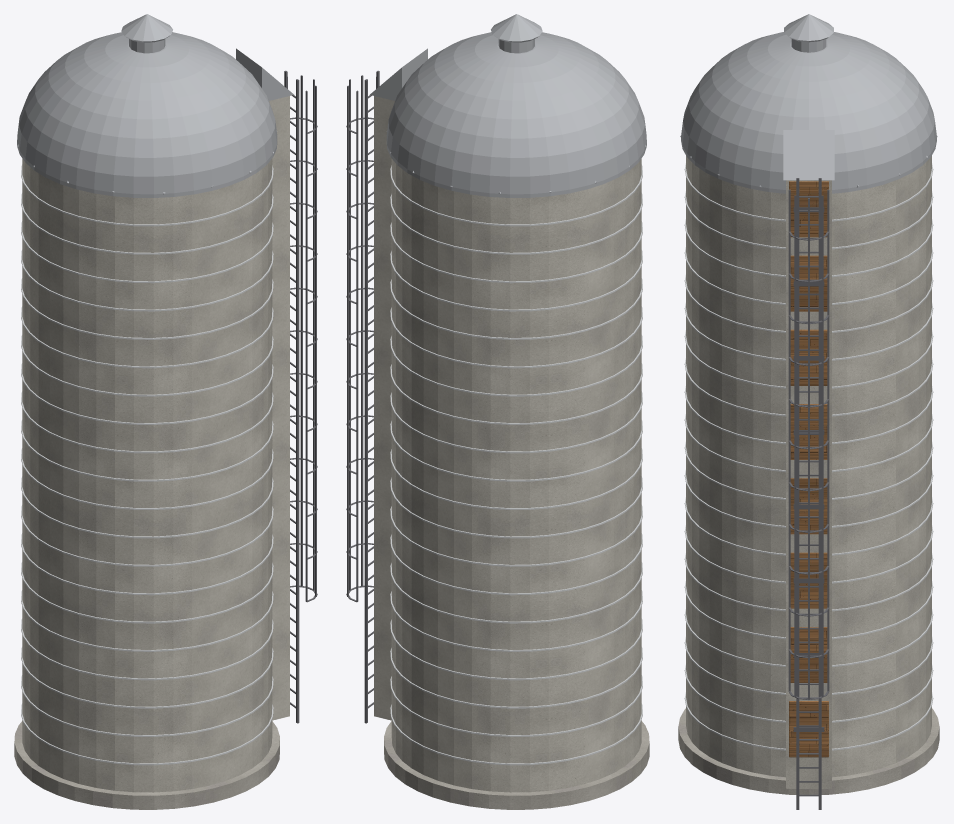
The model's file is silo.glb.
The picture shows the model from 3 angles, left to right: view 1: azimuth 30°, elevation 25°; view 2: azimuth 150°, elevation 25°; view 3: azimuth 270°, elevation 25°; orthographic projection.
Visible parts, largest first — view 1: silo_silo_c, silo_metal, silo_galv, silo_iron, silo_concrete; view 2: silo_silo_c, silo_metal, silo_galv, silo_iron, silo_concrete; view 3: silo_silo_c, silo_metal, silo_iron, silo_galv, silo_wood, silo_concrete.
Part boxes in pixels (box(x1,y1,x2,y2)): silo_silo_c: box(22, 96, 289, 792); silo_metal: box(17, 14, 293, 197); silo_galv: box(21, 164, 273, 765); silo_iron: box(284, 70, 317, 723); silo_concrete: box(14, 721, 279, 809); silo_silo_c: box(374, 96, 641, 792); silo_metal: box(370, 14, 646, 197); silo_galv: box(390, 164, 642, 765); silo_iron: box(346, 70, 379, 723); silo_concrete: box(384, 721, 649, 809); silo_silo_c: box(686, 156, 931, 788); silo_metal: box(680, 14, 937, 193); silo_iron: box(788, 178, 829, 809); silo_galv: box(684, 163, 933, 750); silo_wood: box(789, 181, 828, 757); silo_concrete: box(678, 708, 939, 794).
Size of the model in its own units: 6.26 by 15.65 by 5.1.
Materials: 6 (3 with a texture image).
